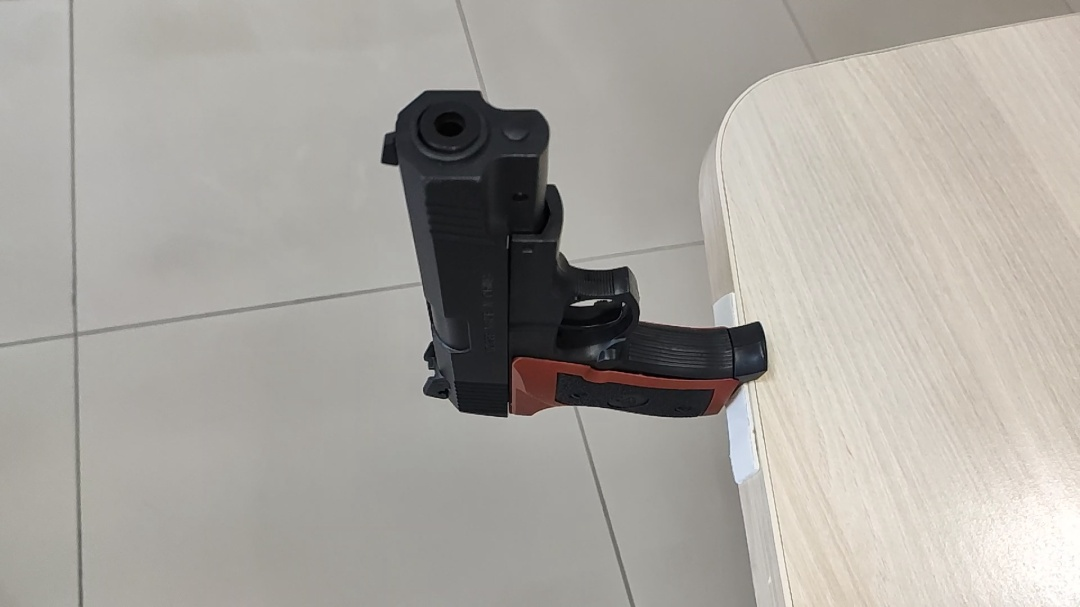gun: (376, 87, 772, 421)
